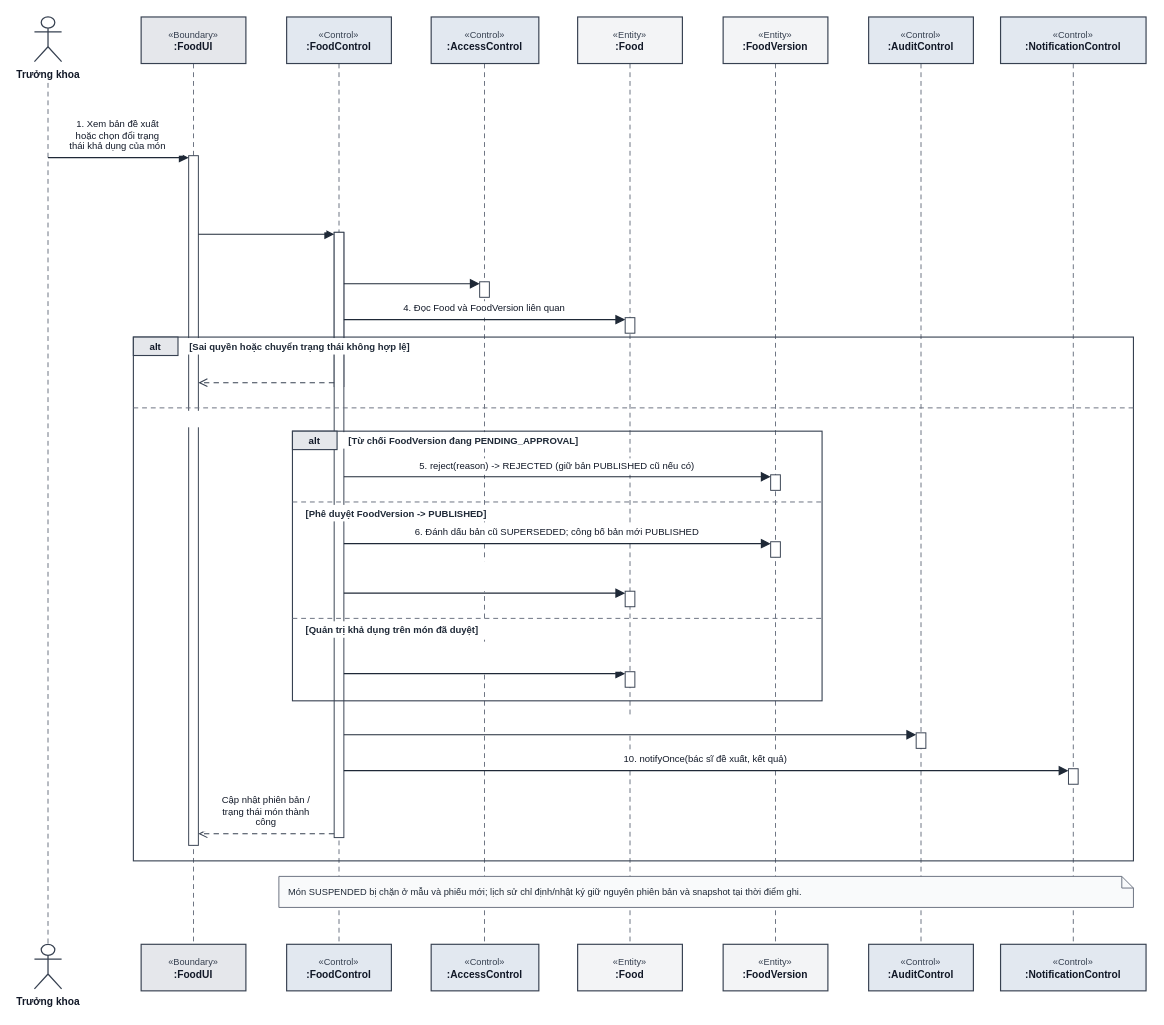
The diagram is 1164 pixels wide and 1025 high, and some of its shapes have lost their labels. The shapes that lost their labels are listed below. From the top down, each one's centre as x and y in pixels, then its label:
At [266,203]: "2. reviewOrManageFood( foodId, versionId, action, reason)".
At [411,266]: "3. checkRole( HEAD_DOCTOR)".
At [265,372]: "Từ chối thao tác".
At [178,418]: "[Được phép]".
At [484,576]: "7. Đặt trạng thái khả dụng (AVAILABLE / RESTRICTED)".
At [484,656]: "8. changeAvailability(AVAILABLE / RESTRICTED / SUSPENDED, reason)".
At [630,724]: "9. record(FOOD_REVIEWED)".
